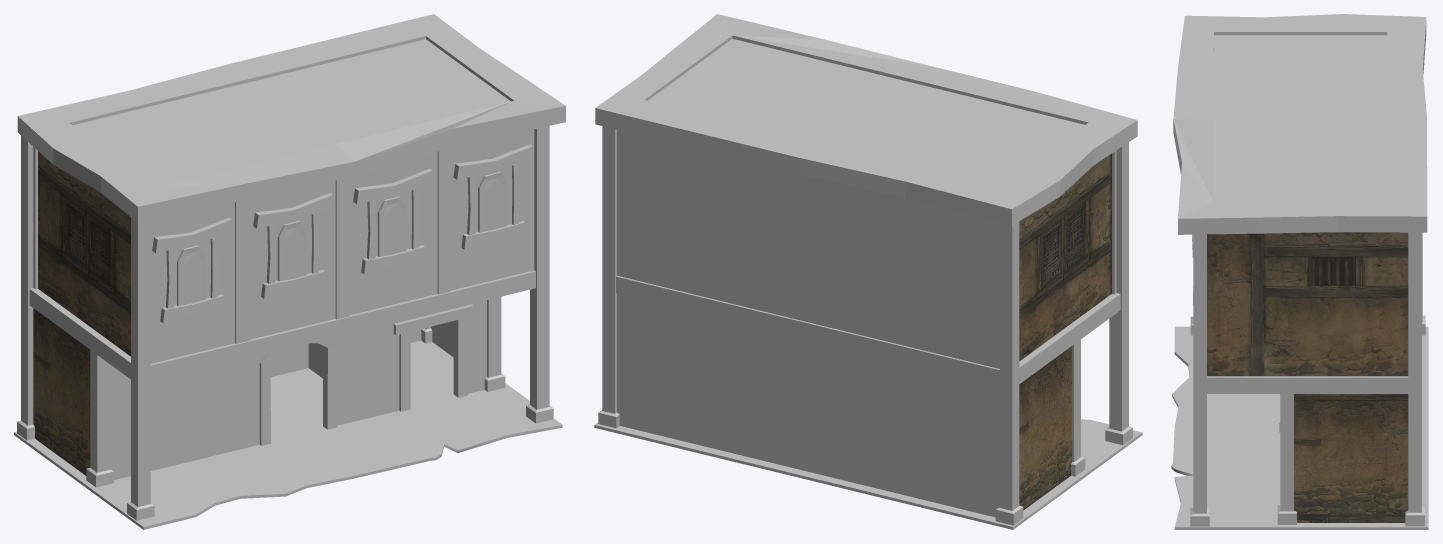
File: ManChengJianZhu04.FBX
The picture shows the model from 3 angles, left to right: view 1: azimuth 30°, elevation 25°; view 2: azimuth 150°, elevation 25°; view 3: azimuth 270°, elevation 25°; orthographic projection.
Parts seen in each view (by area): view 1: ManChengJianZhu04_wujian03, ManChengJianZhu04_qiang01, ManChengJianZhu04_wuding, ManChengJianZhu04_dimian, ManChengJianZhu04_wall, ManChengJianZhu04_wujian, ManChengJianZhu04_qiang, ManChengJianZhu04_men, ManChengJianZhu04_qiang02, ManChengJianZhu04_wujian02; view 2: ManChengJianZhu04_qiang01, ManChengJianZhu04_wujian03, ManChengJianZhu04_wall, ManChengJianZhu04_wuding, ManChengJianZhu04_qiang, ManChengJianZhu04_qiang02, ManChengJianZhu04_dimian, ManChengJianZhu04_men, ManChengJianZhu04_wujian02; view 3: ManChengJianZhu04_wujian03, ManChengJianZhu04_wuding, ManChengJianZhu04_qiang, ManChengJianZhu04_dimian, ManChengJianZhu04_qiang02, ManChengJianZhu04_men, ManChengJianZhu04_wujian02, ManChengJianZhu04_wujian.
Part boxes in pixels (x1=…): ManChengJianZhu04_wujian03: x1=17, y1=14, x2=565, y2=506; ManChengJianZhu04_qiang01: x1=33, y1=129, x2=534, y2=363; ManChengJianZhu04_wuding: x1=73, y1=39, x2=510, y2=187; ManChengJianZhu04_dimian: x1=14, y1=340, x2=562, y2=529; ManChengJianZhu04_wall: x1=110, y1=300, x2=486, y2=479; ManChengJianZhu04_wujian: x1=127, y1=144, x2=553, y2=520; ManChengJianZhu04_qiang: x1=38, y1=151, x2=130, y2=356; ManChengJianZhu04_men: x1=21, y1=295, x2=501, y2=472; ManChengJianZhu04_qiang02: x1=33, y1=308, x2=90, y2=475; ManChengJianZhu04_wujian02: x1=17, y1=328, x2=505, y2=487; ManChengJianZhu04_qiang01: x1=617, y1=130, x2=1116, y2=368; ManChengJianZhu04_wujian03: x1=595, y1=14, x2=1137, y2=431; ManChengJianZhu04_wall: x1=617, y1=293, x2=999, y2=517; ManChengJianZhu04_wuding: x1=648, y1=39, x2=1084, y2=186; ManChengJianZhu04_qiang: x1=1019, y1=153, x2=1111, y2=361; ManChengJianZhu04_qiang02: x1=1019, y1=346, x2=1072, y2=510; ManChengJianZhu04_dimian: x1=594, y1=419, x2=1142, y2=529; ManChengJianZhu04_men: x1=602, y1=285, x2=1080, y2=510; ManChengJianZhu04_wujian02: x1=598, y1=410, x2=1085, y2=525; ManChengJianZhu04_wujian03: x1=1173, y1=14, x2=1427, y2=513; ManChengJianZhu04_wuding: x1=1213, y1=35, x2=1387, y2=202; ManChengJianZhu04_qiang: x1=1207, y1=232, x2=1408, y2=376; ManChengJianZhu04_dimian: x1=1171, y1=326, x2=1428, y2=529; ManChengJianZhu04_qiang02: x1=1294, y1=394, x2=1408, y2=522; ManChengJianZhu04_men: x1=1279, y1=232, x2=1422, y2=512; ManChengJianZhu04_wujian02: x1=1277, y1=315, x2=1425, y2=526; ManChengJianZhu04_wujian: x1=1190, y1=234, x2=1209, y2=526.
Bounding box in the file's own units: 654 × 474 × 348.
